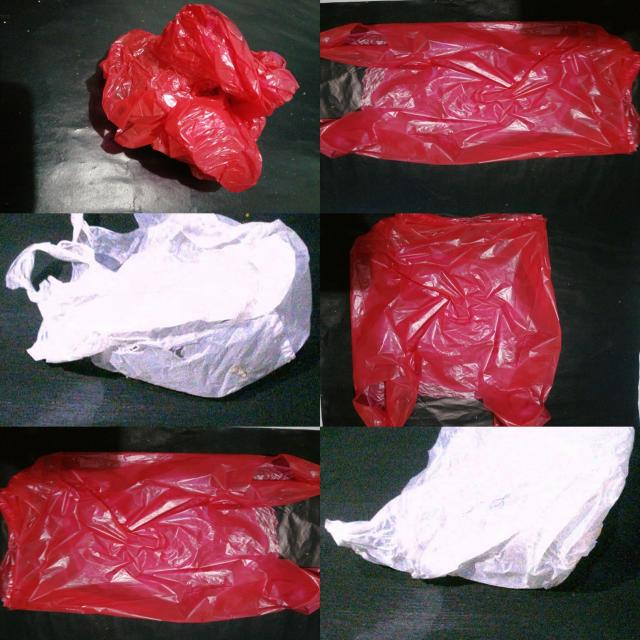Single-layer Plastic: (6, 214, 311, 398), (0, 452, 319, 622), (325, 428, 634, 588), (320, 22, 639, 165), (350, 214, 562, 426), (100, 5, 299, 192)
